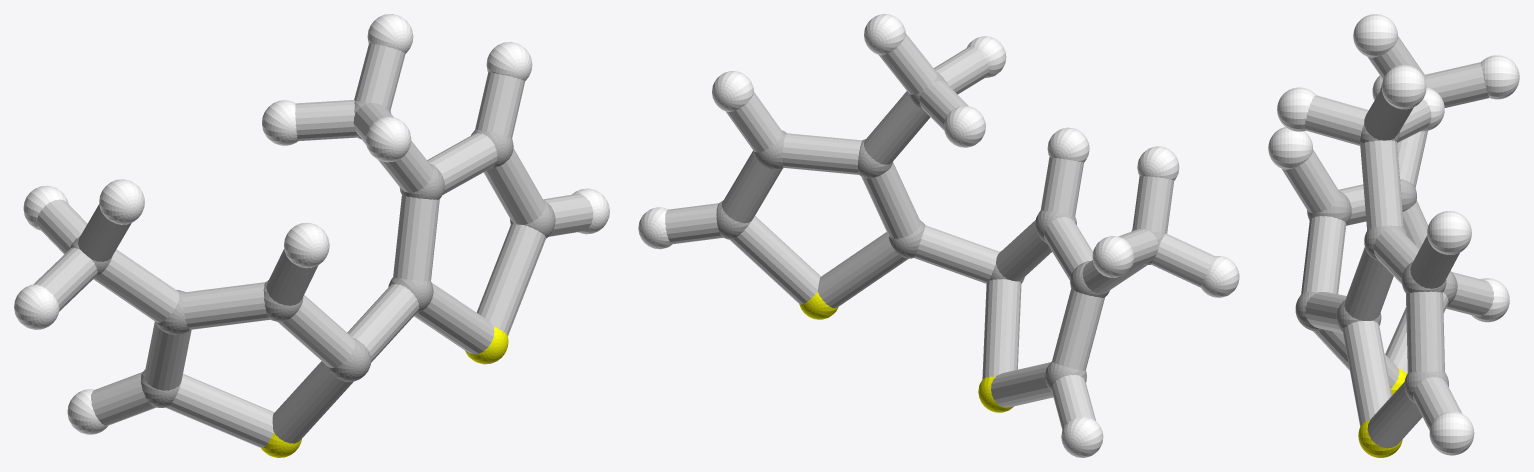
Rendered from Methylthiophene_Phi_60_Theta_160_Methylthiophene.glb.
3 views of the same model, side by side, from view 1: azimuth 30°, elevation 25°; view 2: azimuth 150°, elevation 25°; view 3: azimuth 270°, elevation 25° (orthographic). The views are drawn at different scales.
Visible parts, largest first — view 1: grp7965, grp3621, grp1, grp7241; view 2: grp7965, grp3621, grp1, grp7241; view 3: grp7965, grp3621, grp1, grp7241.
Boxes of the visible parts, <box> form: grp7965: <box>33,43,593,447</box>; grp3621: <box>14,14,609,434</box>; grp1: <box>69,100,555,407</box>; grp7241: <box>261,327,508,457</box>; grp7965: <box>665,34,1215,429</box>; grp3621: <box>638,14,1239,457</box>; grp1: <box>716,72,1164,391</box>; grp7241: <box>799,292,1013,412</box>; grp7965: <box>1282,36,1493,448</box>; grp3621: <box>1268,14,1519,455</box>; grp1: <box>1295,86,1457,403</box>; grp7241: <box>1358,368,1406,457</box>.
Bounding box in the file's own units: 9.36 × 5.87 × 3.37.
